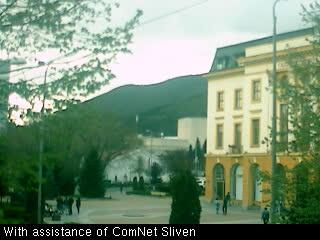person: (259, 208, 270, 223), (56, 194, 63, 216), (75, 197, 82, 214), (223, 197, 229, 216), (226, 190, 232, 208), (64, 196, 69, 217), (214, 200, 221, 215), (69, 196, 74, 214), (120, 186, 122, 193)
